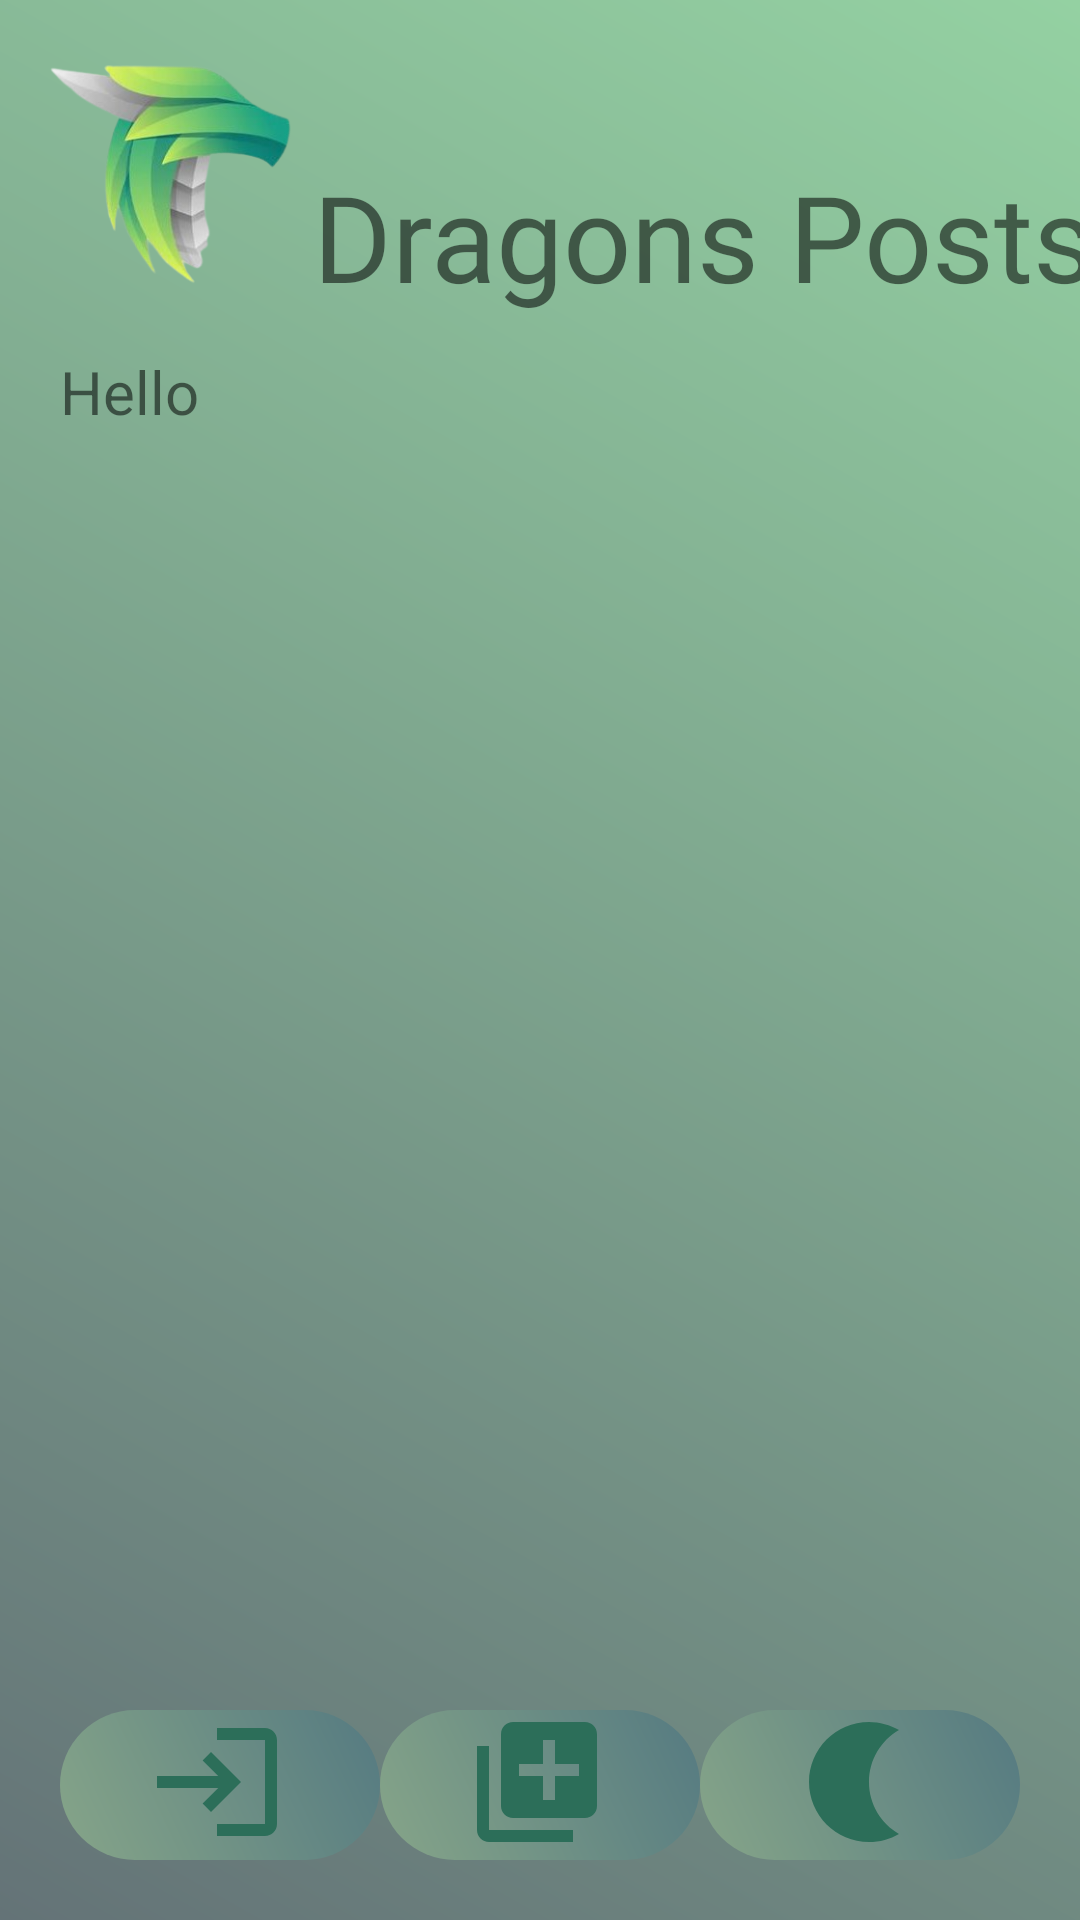

Screen size 1080 × 1920. Icon name, then its box in pixels as bbox=(x1, y1, x2, y2):
add post: bbox=(380, 1722, 597, 1860)
login: bbox=(60, 1710, 277, 1860)
night mood: bbox=(809, 1722, 899, 1842)
